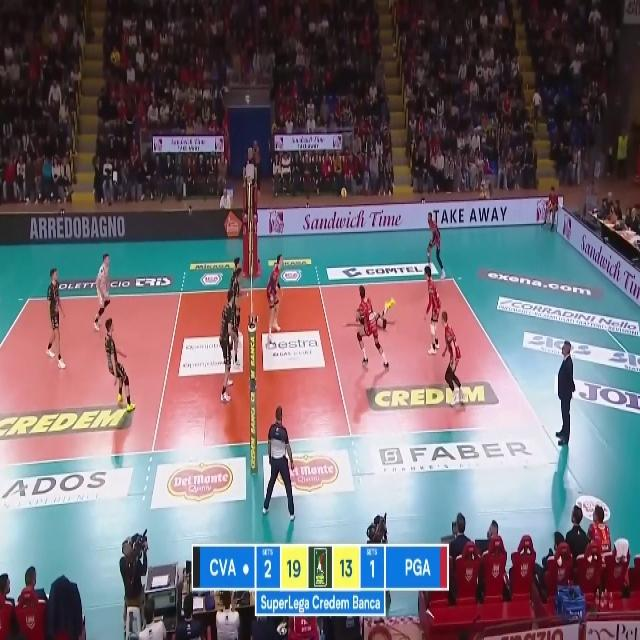volleyball court: (0, 276, 557, 468)
